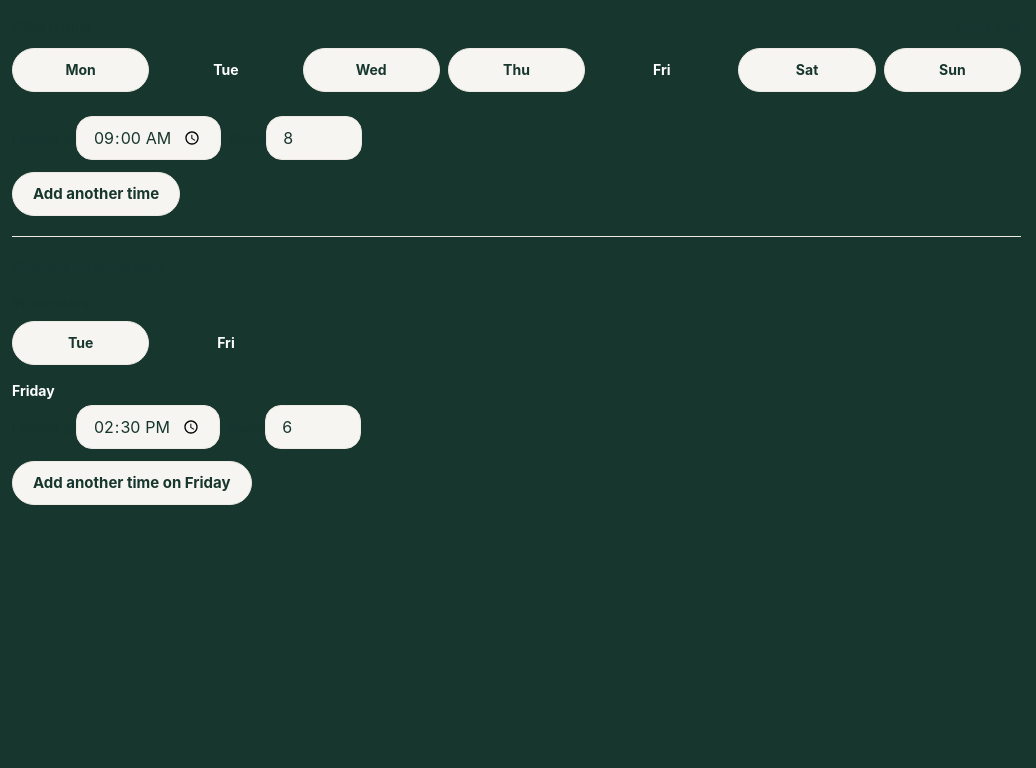
Test case: what would be refused, held back before it is sent › refuses one time twice on a day
Click the button "Add another time". click: coordinates (96, 194)
box: [12,172,180,216]
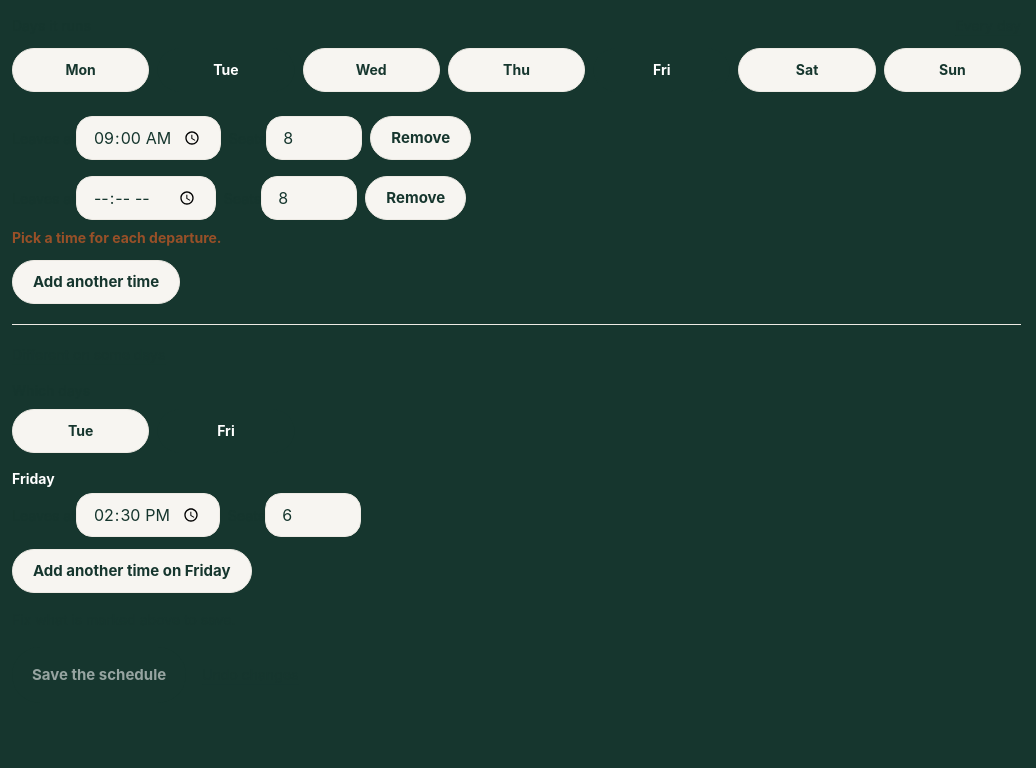
Type "09:00" into the 2nd time field labelled "Leaves at". click: coordinates (146, 198)
box: [76,176,216,220]
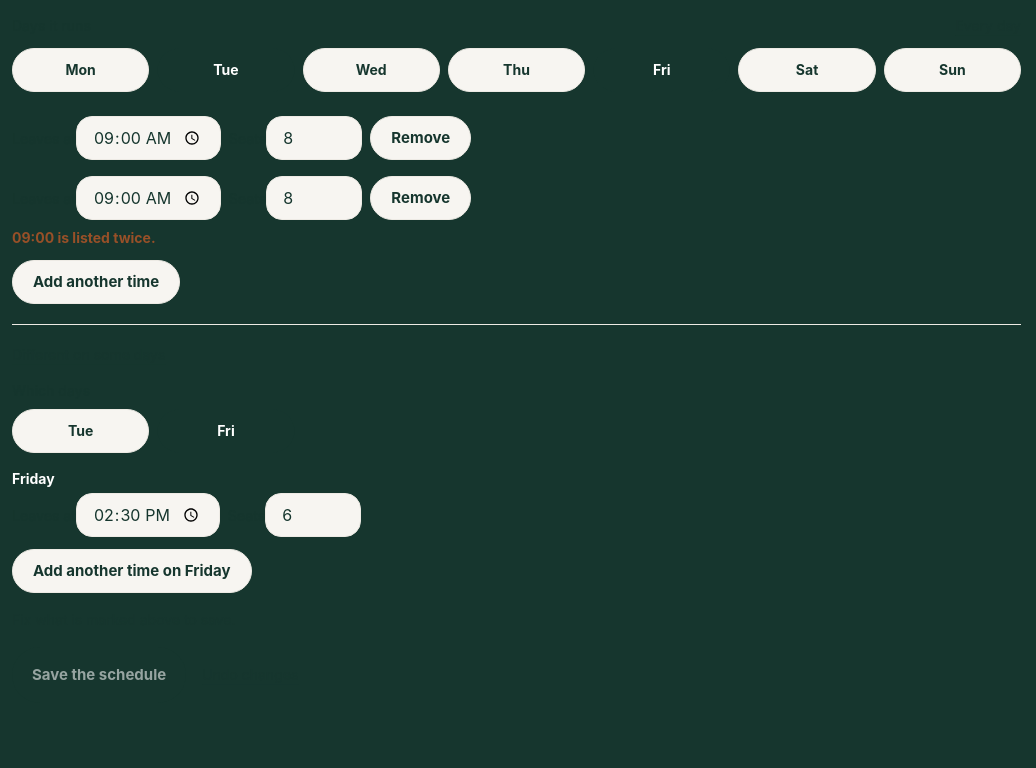
Result: the button "Save the schedule" is disabled at [12,647,186,703]
Result: the text "09:00 is listed twice." is shown at [12,229,156,246]
